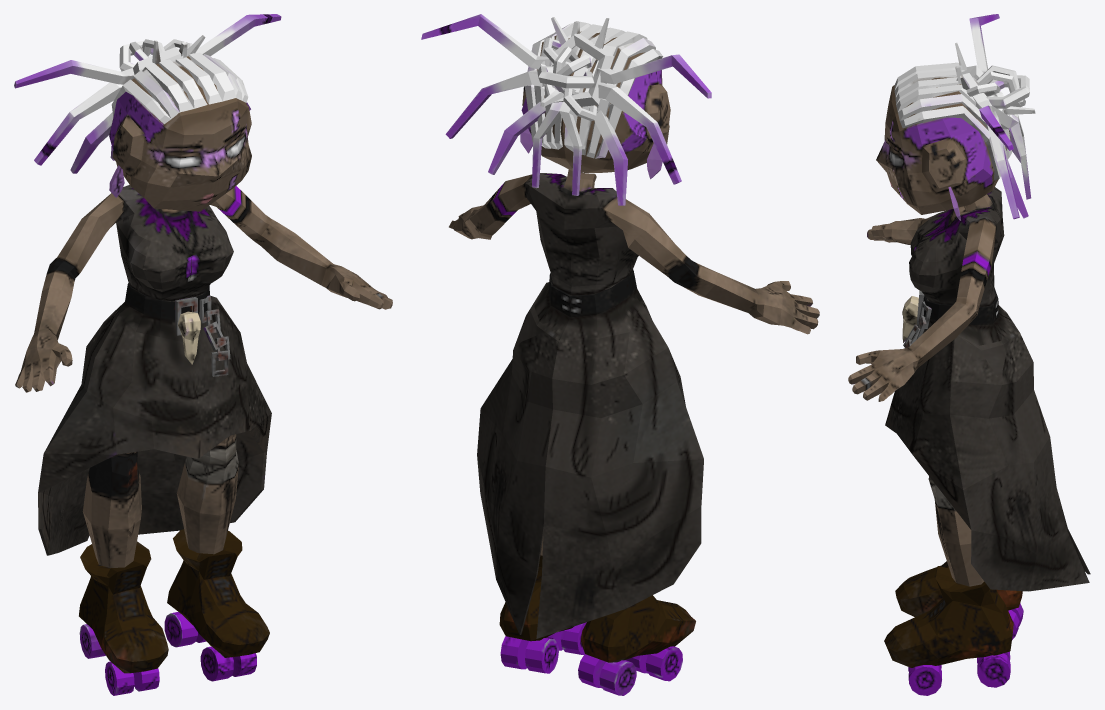
The model's file is bruja_000227.obj.
3 renders of one model, left to right at view 1: azimuth 30°, elevation 25°; view 2: azimuth 150°, elevation 25°; view 3: azimuth 270°, elevation 25°, orthographic. The views are drawn at different scales.
Parts seen in each view (by area): view 1: Bruja_Plane.001; view 2: Bruja_Plane.001; view 3: Bruja_Plane.001.
Boxes of the visible parts, x1,y1,x2,y2 form: Bruja_Plane.001: [14, 14, 392, 695]; Bruja_Plane.001: [421, 14, 819, 695]; Bruja_Plane.001: [848, 14, 1090, 695].
Bounding box in the file's own units: 9.85 × 16.69 × 5.94.
